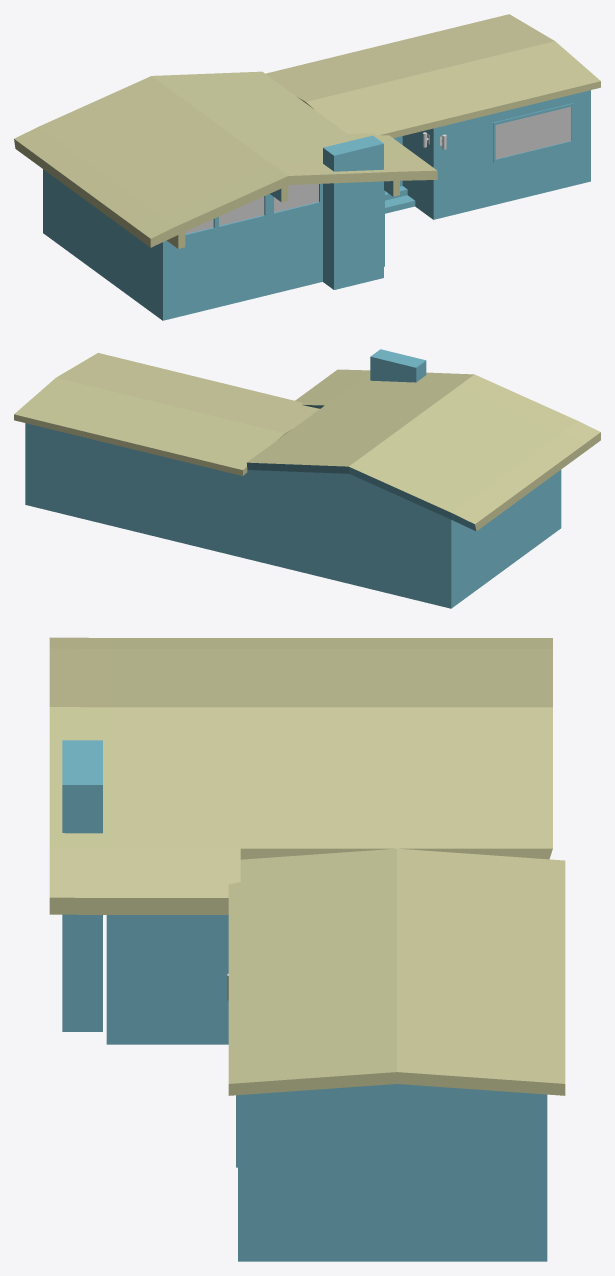
The model's file is House Backup.fbx.
3 views of the same model, one above another, from view 1: azimuth 30°, elevation 25°; view 2: azimuth 150°, elevation 25°; view 3: azimuth 270°, elevation 25° (orthographic). The views are drawn at different scales.
Visible parts, largest first — view 1: House; view 2: House; view 3: House.
Boxes of the visible parts, x1,y1,x2,y2 form: House: [14, 14, 600, 320]; House: [14, 349, 600, 608]; House: [49, 637, 565, 1261].
Bounding box in the file's own units: 1076 × 278 × 524.
